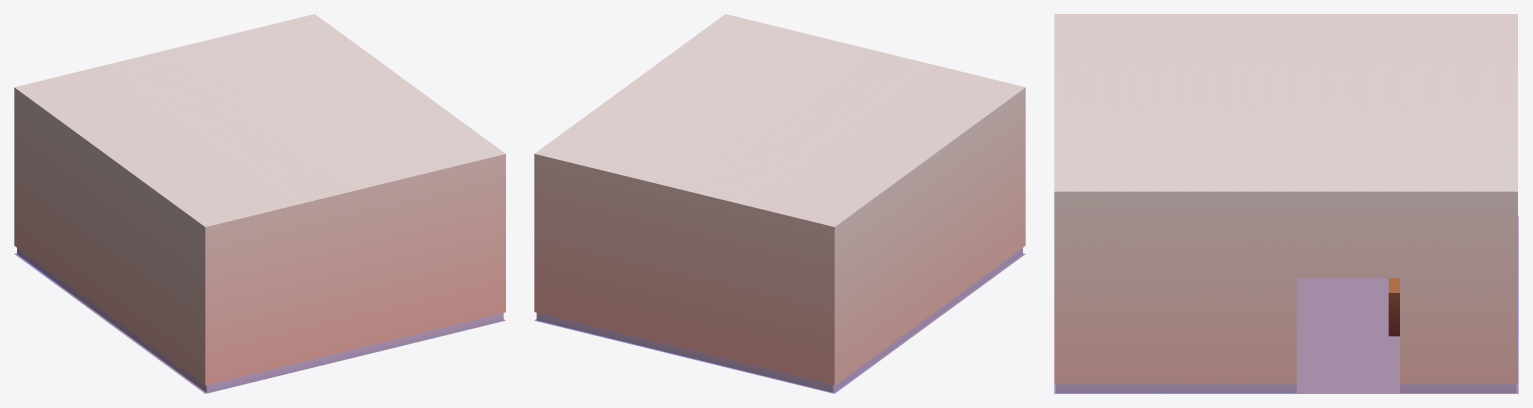
The model's file is Room.fbx.
3 renders of one model, left to right at view 1: azimuth 30°, elevation 25°; view 2: azimuth 150°, elevation 25°; view 3: azimuth 270°, elevation 25°, orthographic. The views are drawn at different scales.
Visible parts, largest first — view 1: Plane; view 2: Plane; view 3: Plane, Desk.
Part boxes in pixels (bbox=[...]): Plane: bbox=[14, 14, 505, 393]; Plane: bbox=[534, 14, 1025, 393]; Plane: bbox=[1054, 14, 1518, 393]; Desk: bbox=[1388, 278, 1399, 336].
Size of the model in its own units: 1065 by 565 by 1175.
